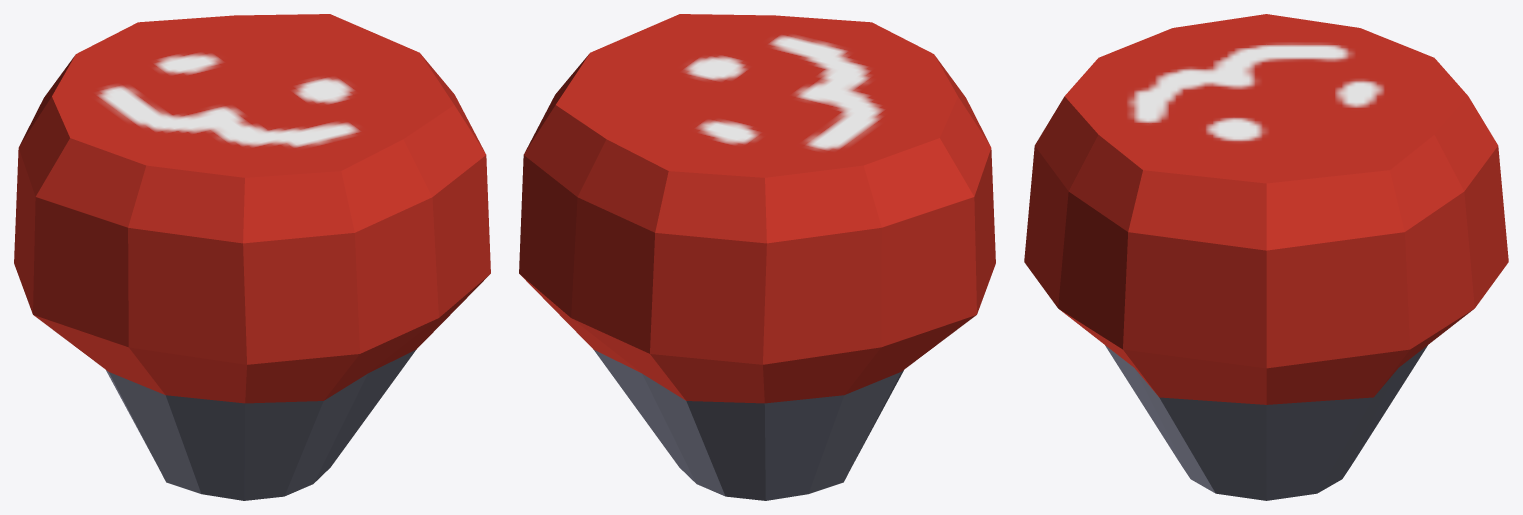
File: button separate.glb
The picture shows the model from 3 angles, left to right: view 1: azimuth 30°, elevation 25°; view 2: azimuth 150°, elevation 25°; view 3: azimuth 270°, elevation 25°; orthographic projection.
Visible parts, largest first — view 1: Button; view 2: Button; view 3: Button.
Boxes of the visible parts, box(x1,y1,x2,y2) form: Button: box(14, 14, 490, 500); Button: box(519, 14, 995, 500); Button: box(1024, 14, 1508, 500).
Size of the model in its own units: 0.4606 by 0.3815 by 0.4582.
Materials: 1 (1 with a texture image).
